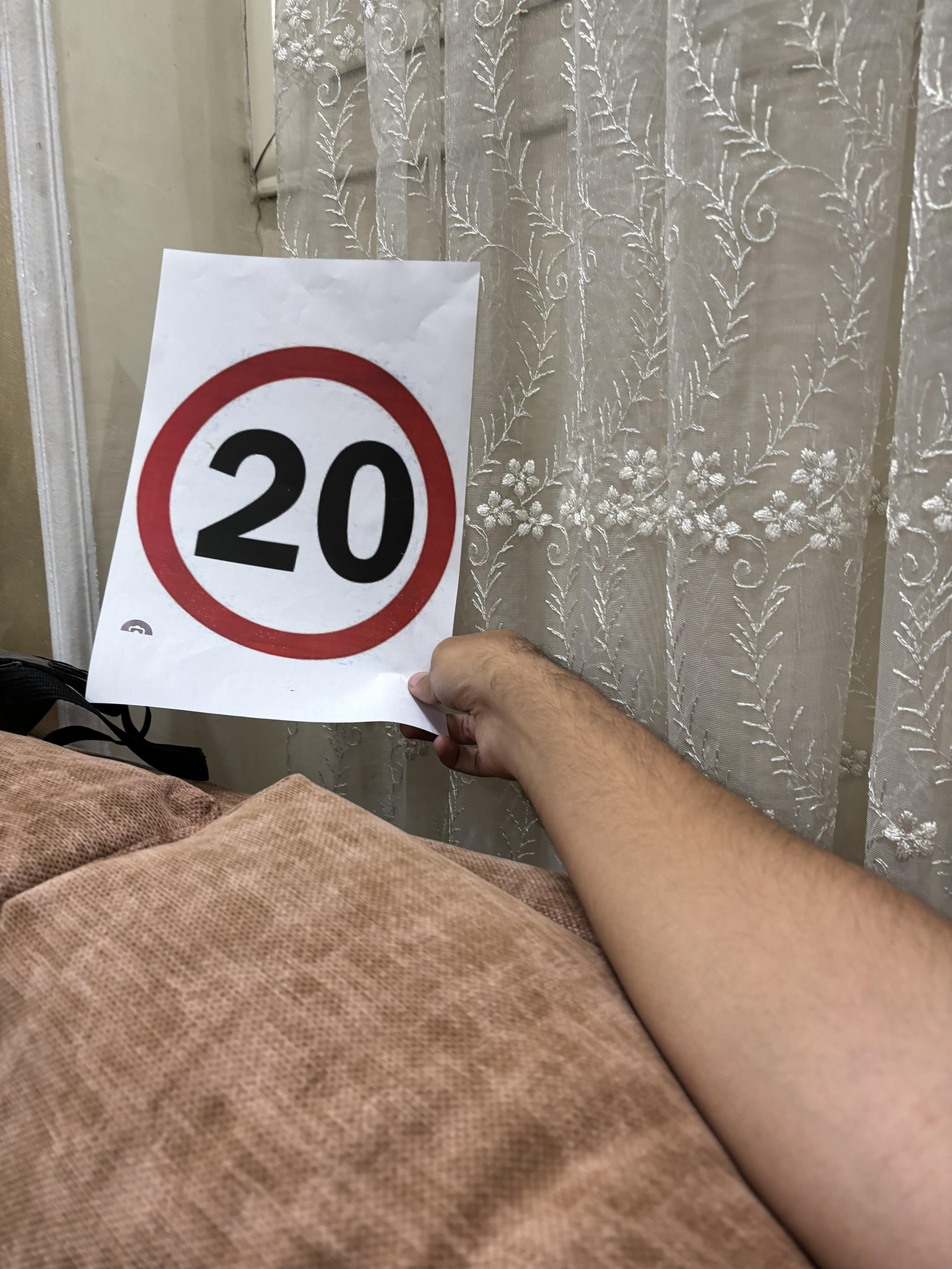20-Speed: (129, 343, 468, 653)
